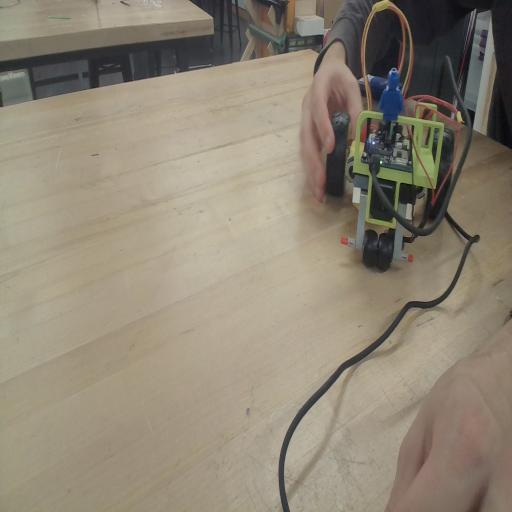blue LEGO minifig: (378, 64, 406, 126)
